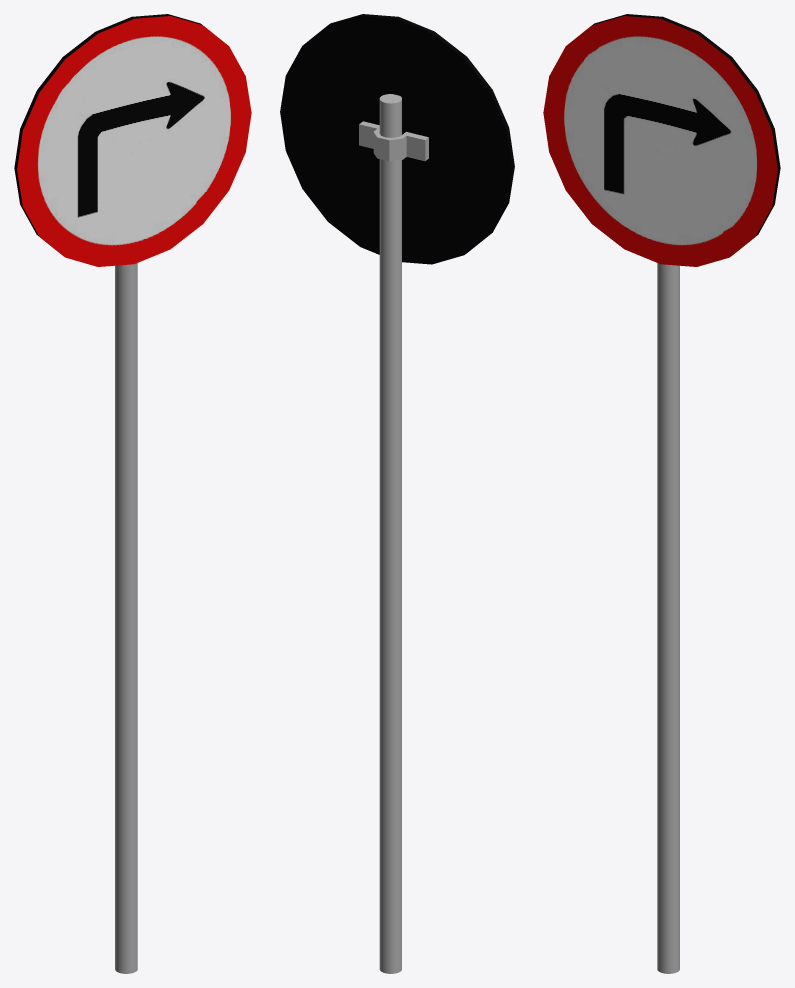
Rendered from DIREITA1.fbx.
3 views of the same model, side by side, from view 1: azimuth 30°, elevation 25°; view 2: azimuth 150°, elevation 25°; view 3: azimuth 330°, elevation 25° (orthographic).
Visible parts, largest first — view 1: pCylinder3, pCylinder2; view 2: pCylinder3, pCylinder2, pPipe1; view 3: pCylinder3, pCylinder2.
Boxes of the visible parts, bbox=[...] form: pCylinder3: bbox=[14, 14, 251, 266]; pCylinder2: bbox=[115, 263, 137, 973]; pCylinder3: bbox=[280, 14, 514, 264]; pCylinder2: bbox=[379, 94, 401, 973]; pPipe1: bbox=[359, 121, 428, 161]; pCylinder3: bbox=[543, 14, 780, 266]; pCylinder2: bbox=[657, 263, 679, 973].
Size of the model in its own units: 4.92 by 19.15 by 0.5752.
